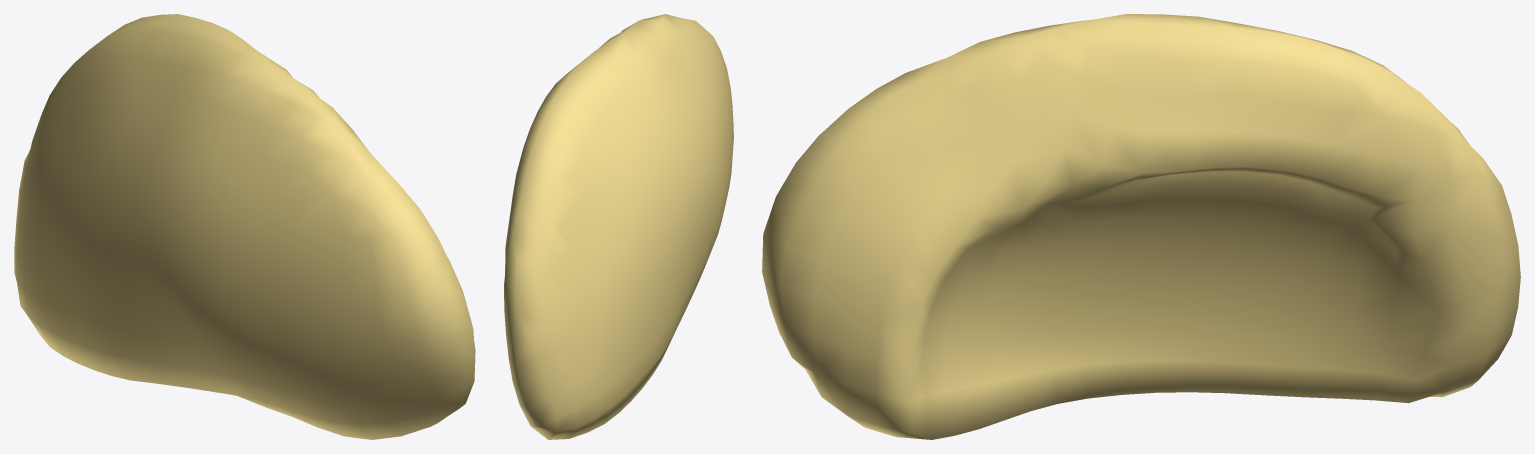
3 renders of one model, left to right at view 1: azimuth 30°, elevation 25°; view 2: azimuth 150°, elevation 25°; view 3: azimuth 270°, elevation 25°, orthographic. The views are drawn at different scales.
Visible parts, largest first — view 1: ZA_faa85c189757fa5a; view 2: ZA_faa85c189757fa5a; view 3: ZA_faa85c189757fa5a.
Boxes of the visible parts, x1=… form: ZA_faa85c189757fa5a: x1=14, y1=14, x2=475, y2=439; ZA_faa85c189757fa5a: x1=504, y1=14, x2=733, y2=439; ZA_faa85c189757fa5a: x1=762, y1=14, x2=1520, y2=439.
Size of the model in its own units: 0.0177 by 0.0252 by 0.0416.
